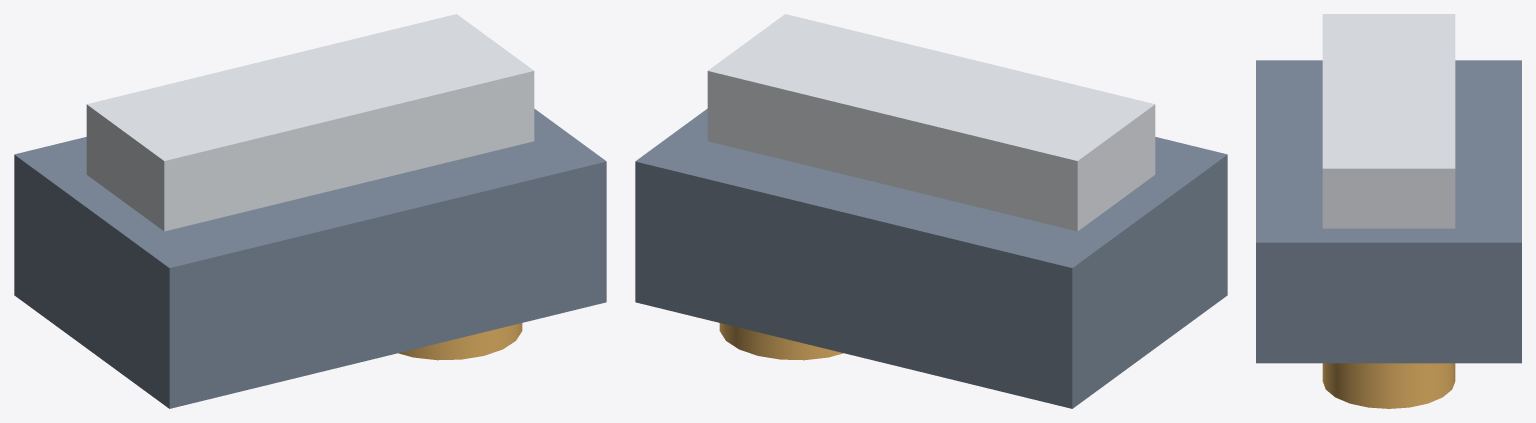
File: single_phase_full_wave_scr_bridge.glb
3 views of the same model, side by side, from view 1: azimuth 30°, elevation 25°; view 2: azimuth 150°, elevation 25°; view 3: azimuth 270°, elevation 25° (orthographic). The views are drawn at different scales.
Visible parts, largest first — view 1: FourThyristorBridgeChassis, ExtrudedHeatSinkCoolingFins, InductiveRLLoadSmoothingChoke; view 2: FourThyristorBridgeChassis, ExtrudedHeatSinkCoolingFins, InductiveRLLoadSmoothingChoke; view 3: FourThyristorBridgeChassis, ExtrudedHeatSinkCoolingFins, InductiveRLLoadSmoothingChoke.
Part boxes in pixels (x1=…): FourThyristorBridgeChassis: x1=14, y1=108, x2=606, y2=408; ExtrudedHeatSinkCoolingFins: x1=86, y1=14, x2=534, y2=231; InductiveRLLoadSmoothingChoke: x1=398, y1=323, x2=522, y2=360; FourThyristorBridgeChassis: x1=635, y1=108, x2=1227, y2=408; ExtrudedHeatSinkCoolingFins: x1=707, y1=14, x2=1155, y2=231; InductiveRLLoadSmoothingChoke: x1=719, y1=323, x2=843, y2=360; FourThyristorBridgeChassis: x1=1256, y1=60, x2=1521, y2=363; ExtrudedHeatSinkCoolingFins: x1=1322, y1=14, x2=1455, y2=228; InductiveRLLoadSmoothingChoke: x1=1322, y1=363, x2=1455, y2=408.
Size of the model in its own units: 1.3 by 0.775 by 0.8.
